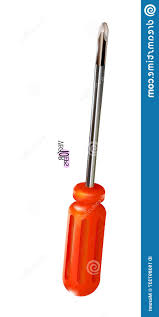Screwdriver: (53, 14, 119, 300)
